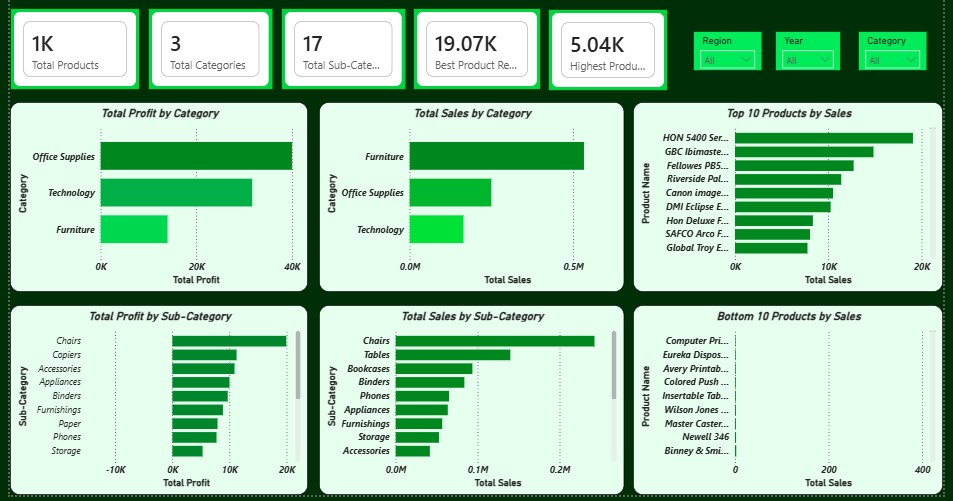

This screenshot's page, from the dashboard's own definition file:
{"tool":"powerbi","page":{"name":"Product Analytics & Profitability","canvas":[1400,750],"ordinal":2},"visuals":[{"type":"cardVisual","fields":{"Data":["Date Table.Total Products"]},"box":[0,19.5,195,123],"z":0},{"type":"cardVisual","fields":{"Data":["Date Table.Total Sub-Categories"]},"box":[406.5,19.5,187.5,123],"z":1000},{"type":"cardVisual","fields":{"Data":["Date Table.Best Product Revenue"]},"box":[604.5,19.5,192,123],"z":2000},{"type":"cardVisual","fields":{"Data":["Date Table.Total Categories"]},"box":[207,19.5,187.5,123],"z":3000},{"type":"cardVisual","fields":{"Data":["Date Table.Highest Product Profit"]},"box":[807,21,180,123],"z":4000},{"type":"clusteredBarChart","fields":{"Y":["Date Table.Total Profit"],"Category":["SSdataset.Sub-Category"]},"box":[0,465,447,285],"z":5000},{"type":"clusteredBarChart","fields":{"Y":["Date Table.Total Sales"],"Category":["SSdataset.Category"]},"box":[463.5,160.5,457.5,285],"z":6000},{"type":"clusteredBarChart","fields":{"Category":["SSdataset.Category"],"Y":["Date Table.Total Profit"]},"box":[0,160.5,447,285],"z":7000},{"type":"clusteredBarChart","fields":{"Category":["SSdataset.Sub-Category"],"Y":["Date Table.Total Sales"]},"box":[463.5,465,457.5,285],"z":8000},{"type":"slicer","fields":{"Values":["SSdataset.Region"]},"box":[1024.5,54,103.5,60],"z":9000},{"type":"slicer","fields":{"Values":["SSdataset.Category"]},"box":[1272,54,103.5,60],"z":10000},{"type":"slicer","fields":{"Values":["Date Table.Year"]},"box":[1147.5,54,99,60],"z":11000},{"type":"barChart","title":"Top 10 Products by Sales","fields":{"Category":["SSdataset.Product Name"],"Y":["Date Table.Total Sales"]},"box":[934.5,160.5,465,285],"z":12000},{"type":"barChart","title":"Bottom 10 Products by Sales","fields":{"Category":["SSdataset.Product Name"],"Y":["Date Table.Total Sales"]},"box":[934.5,465,465,285],"z":13000}]}

Visuals, with their boxes in screenshot pixels (x1, y1, x2, y2), scaled from the page's 1400x750 canvas onto the 953x501 screenshot:
cardVisual - Date Table.Total Products: <box>0,13,133,95</box>
cardVisual - Date Table.Total Sub-Categories: <box>277,13,404,95</box>
cardVisual - Date Table.Best Product Revenue: <box>411,13,542,95</box>
cardVisual - Date Table.Total Categories: <box>141,13,269,95</box>
cardVisual - Date Table.Highest Product Profit: <box>549,14,672,96</box>
clusteredBarChart - Date Table.Total Profit x SSdataset.Sub-Category: <box>0,311,304,500</box>
clusteredBarChart - Date Table.Total Sales x SSdataset.Category: <box>316,107,627,298</box>
clusteredBarChart - SSdataset.Category x Date Table.Total Profit: <box>0,107,304,298</box>
clusteredBarChart - SSdataset.Sub-Category x Date Table.Total Sales: <box>316,311,627,500</box>
slicer - SSdataset.Region: <box>697,36,768,76</box>
slicer - SSdataset.Category: <box>866,36,936,76</box>
slicer - Date Table.Year: <box>781,36,849,76</box>
"Top 10 Products by Sales" barChart: <box>636,107,952,298</box>
"Bottom 10 Products by Sales" barChart: <box>636,311,952,500</box>
